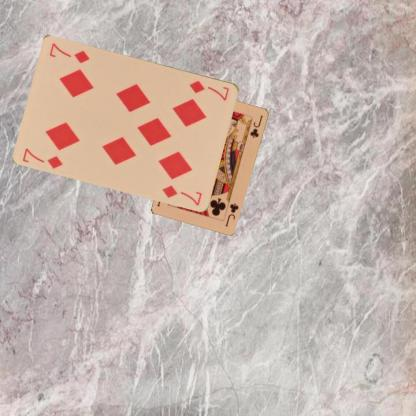7d: (20, 145, 65, 170), (187, 78, 231, 102)
Jc: (222, 200, 240, 228)
